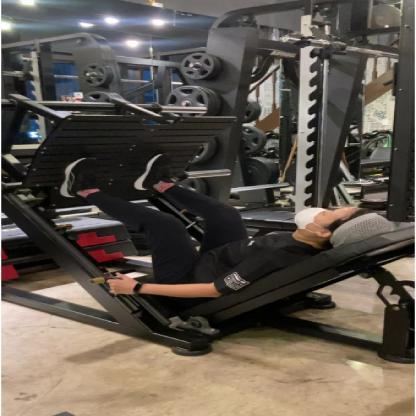leg press: (0, 79, 416, 374)
